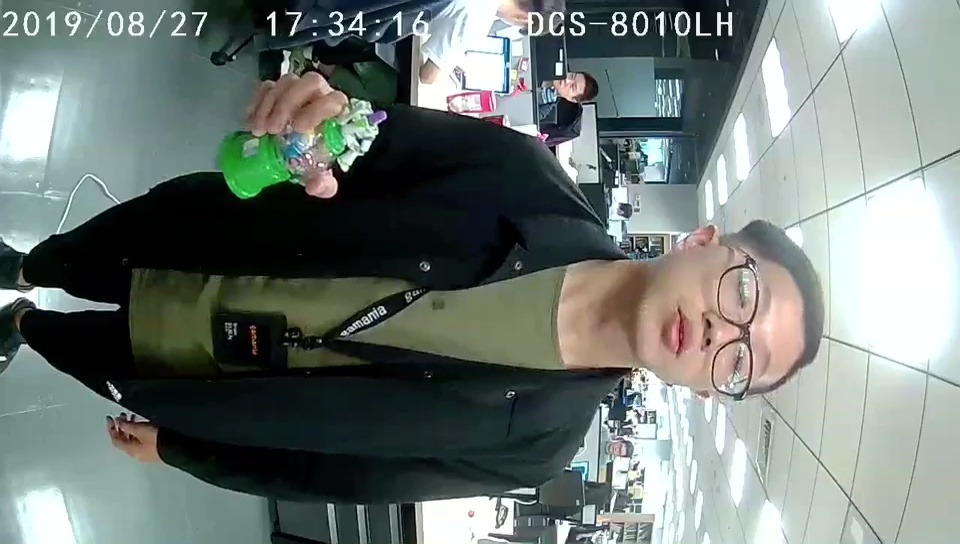buzz: (220, 94, 389, 201)
